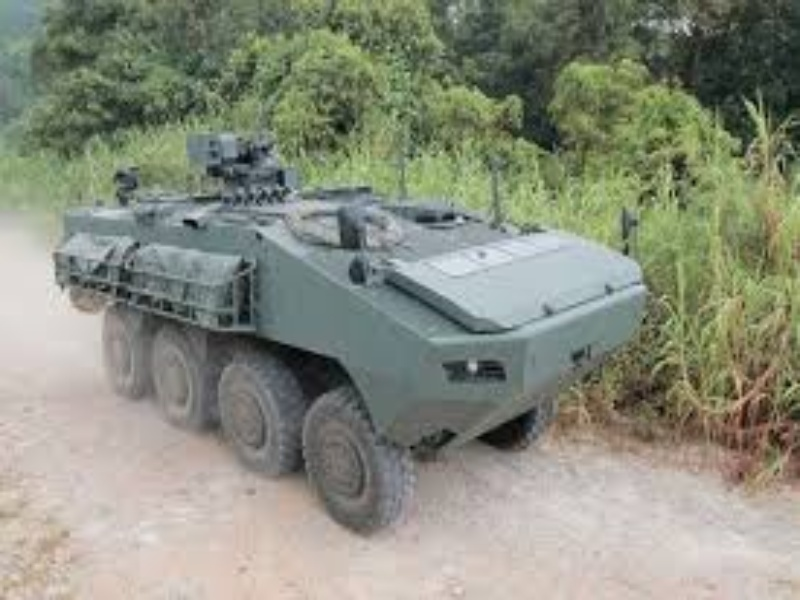tank: (53, 129, 654, 538)
